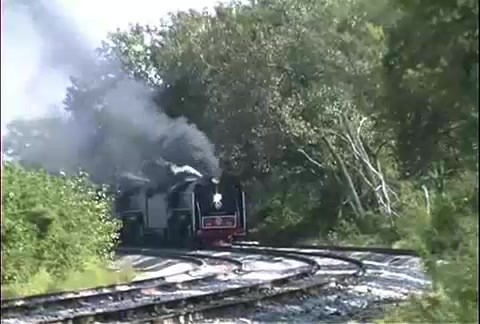train: (110, 163, 251, 250)
